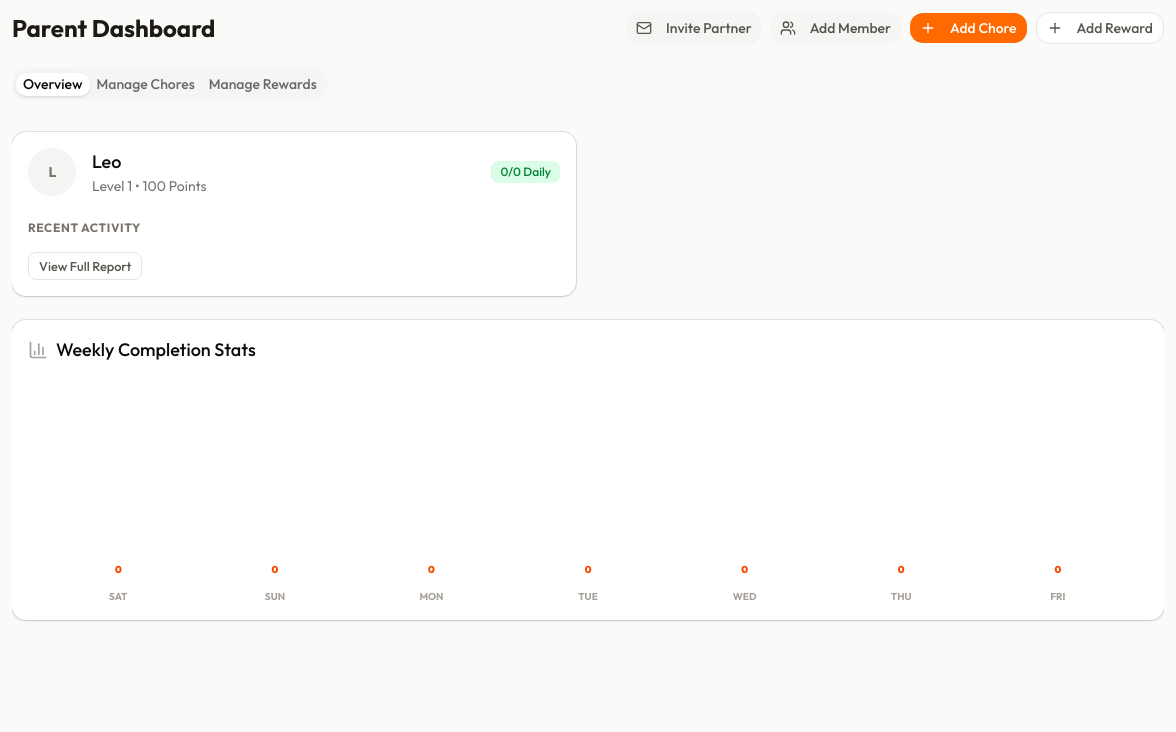
Scenario: P0 Production Readiness Fixes - Comprehensive Edge Cases › Issue 1 & 5: ParentDashboard Empty States & Restock › shows empty state for chores when chores array is explicitly empty
The image size is (1176, 732).
Click the tab "Manage Chores" at (146, 84), box [90,72,202,96]
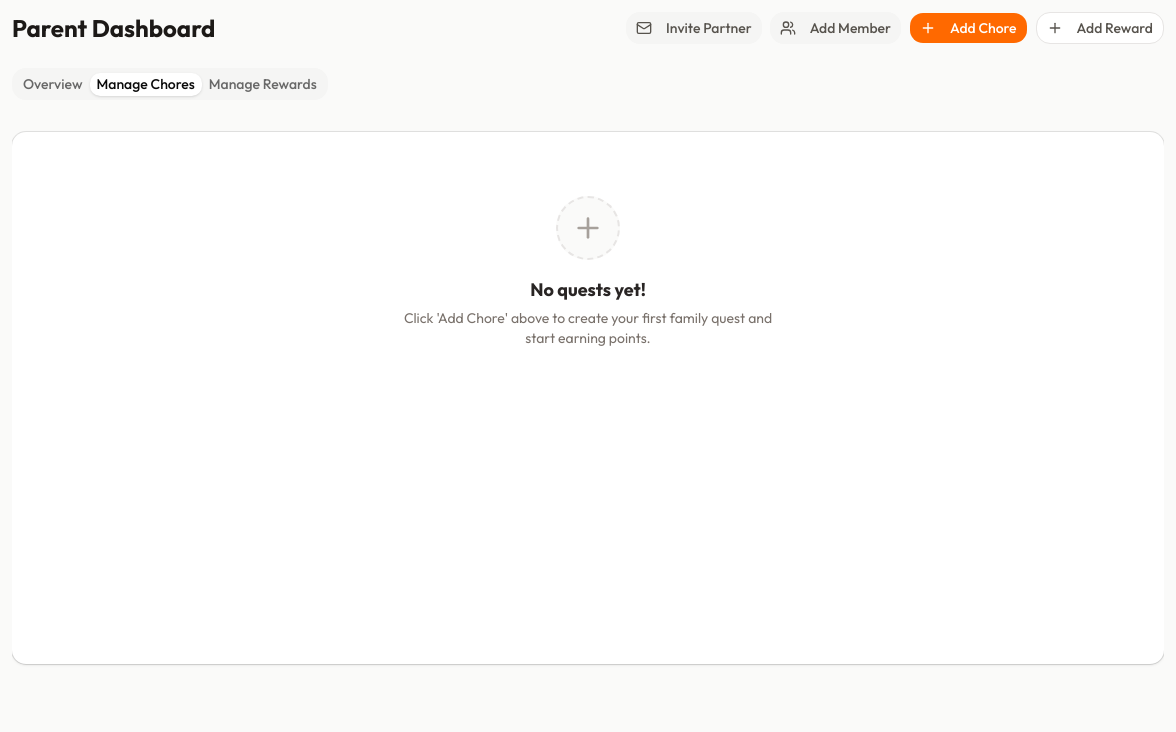
Expected: the text "No quests yet!" is shown, [530,276,646,304]
